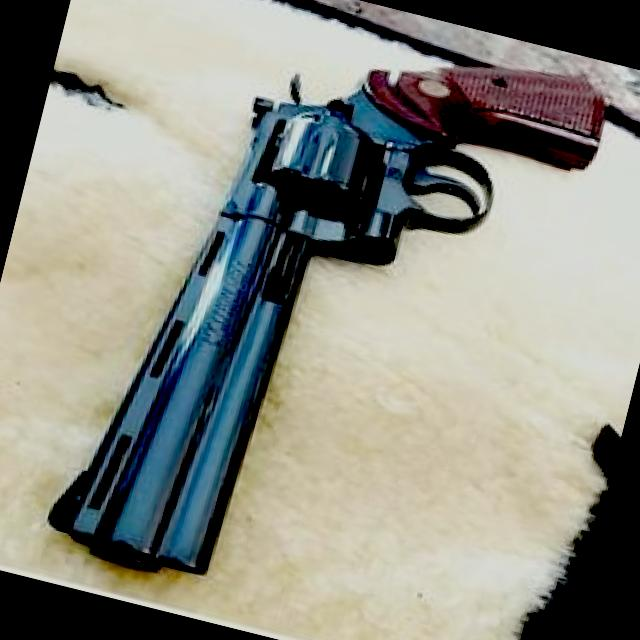revolver: (8, 0, 640, 640)
